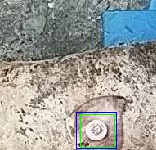text: (80, 114, 114, 147)
